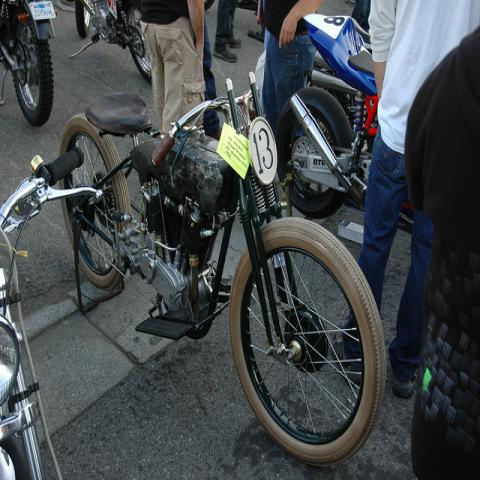motorcycle: (58, 71, 387, 467), (0, 144, 101, 472), (276, 8, 383, 216), (0, 0, 58, 128), (68, 0, 154, 81)
